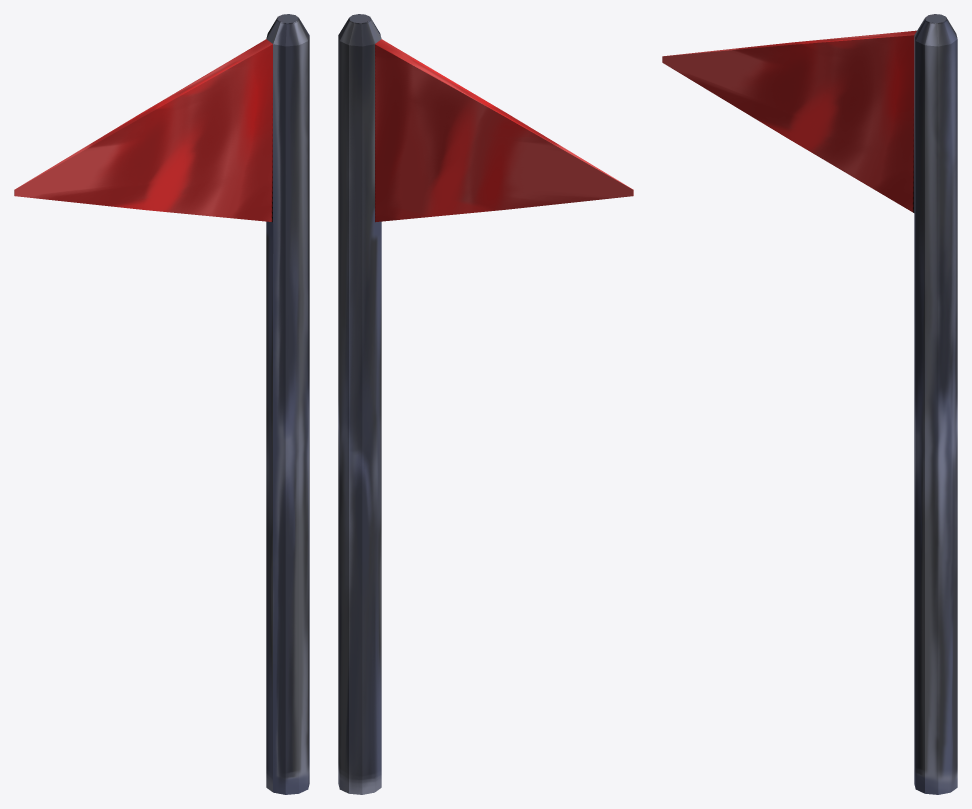
File: Checkpoint.fbx
3 views of the same model, side by side, from view 1: azimuth 30°, elevation 25°; view 2: azimuth 150°, elevation 25°; view 3: azimuth 330°, elevation 25° (orthographic).
Visible parts, largest first — view 1: Checkpoint; view 2: Checkpoint; view 3: Checkpoint.
Part boxes in pixels (bbox=[...]): Checkpoint: bbox=[14, 14, 309, 794]; Checkpoint: bbox=[338, 14, 633, 794]; Checkpoint: bbox=[662, 14, 957, 794].
Bounding box in the file's own units: 150 × 376 × 19.67.
Materials: 1 (1 with a texture image).
